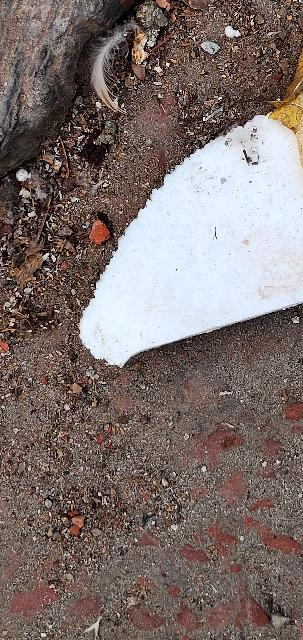cocksheet: (46, 102, 303, 368)
